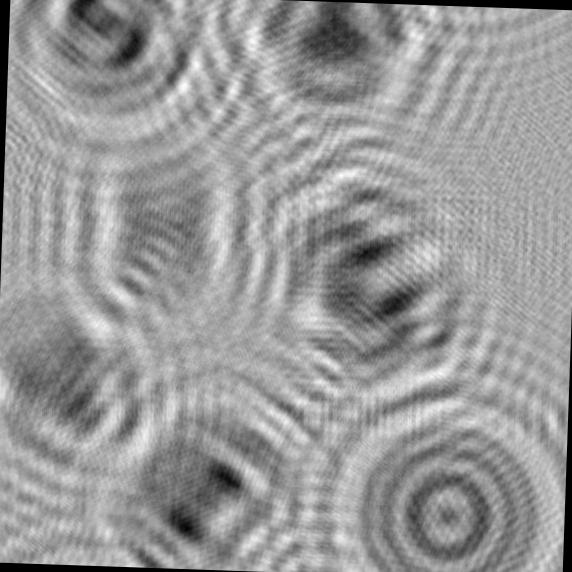A: (170, 0, 484, 179)
E: (66, 348, 328, 572)
I: (3, 100, 292, 372)
M: (204, 98, 522, 446)
O: (274, 349, 570, 572)
S: (3, 0, 257, 197)
Y: (0, 238, 202, 536)
